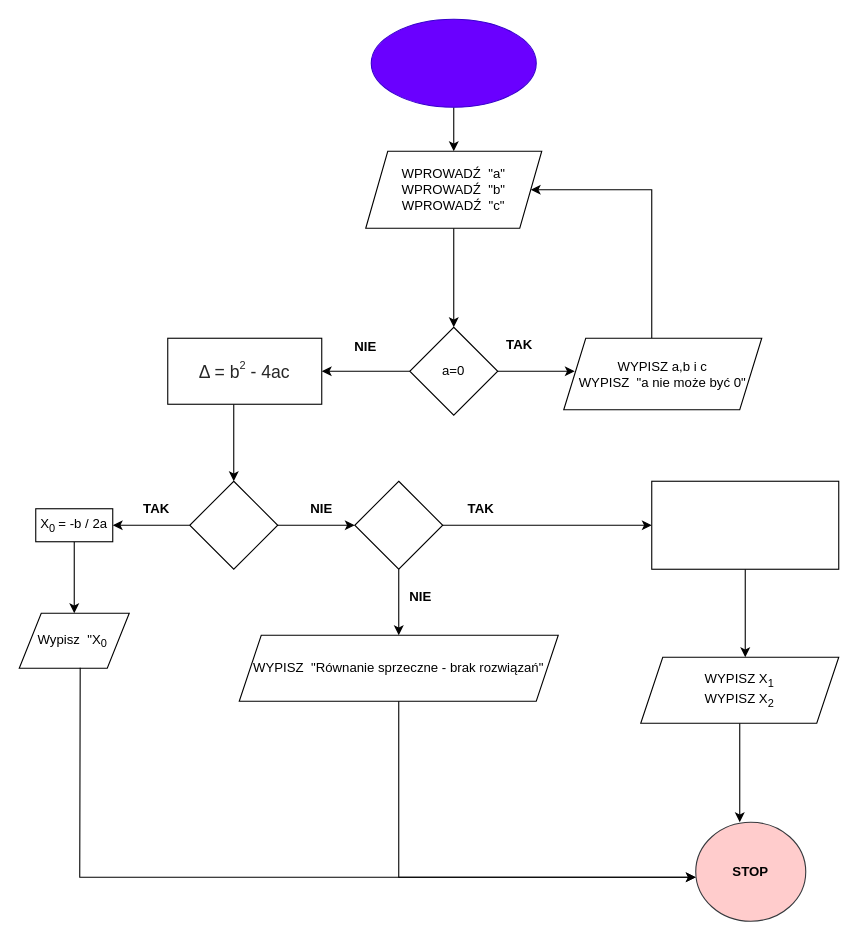
Some shapes in this 858 by 941 pixel diagram are drawn without their labels. Here are the shapes that lost their labels. From the top down, the box of each, then its label:
(370, 18, 536, 107): START
(189, 480, 278, 569): Δ = 0
(354, 480, 443, 569): Δ > 0
(651, 480, 839, 569): x 1 = (-b + √ Δ) / 2a x 2 = ( -b - √ Δ) / 2a
